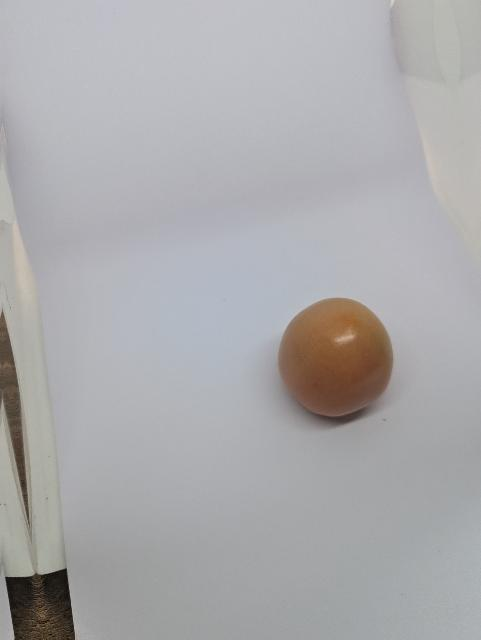turning: (259, 281, 412, 427)
